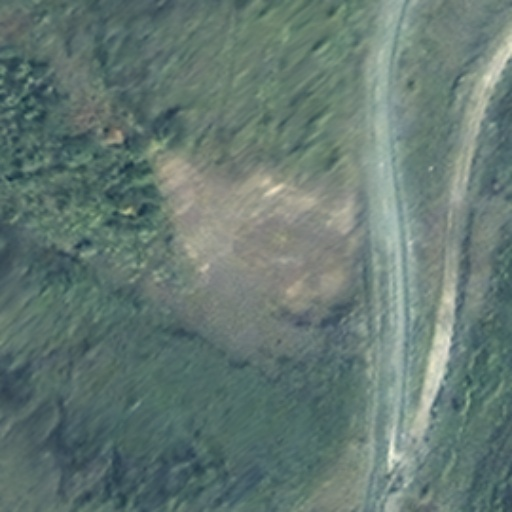landslide: (149, 150, 361, 344)
